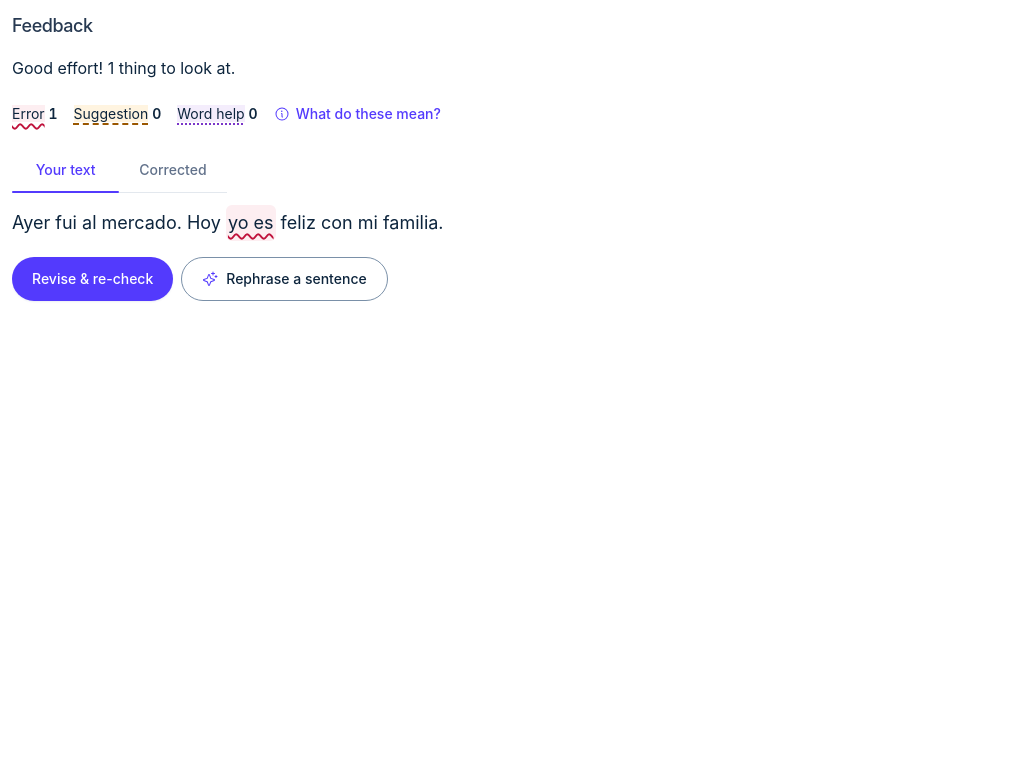
Test: RevisableFeedback rephrase › starts on the first sentence when nothing is selected
Click the button "Rephrase a sentence" at (284, 279), box [181,257,388,301]
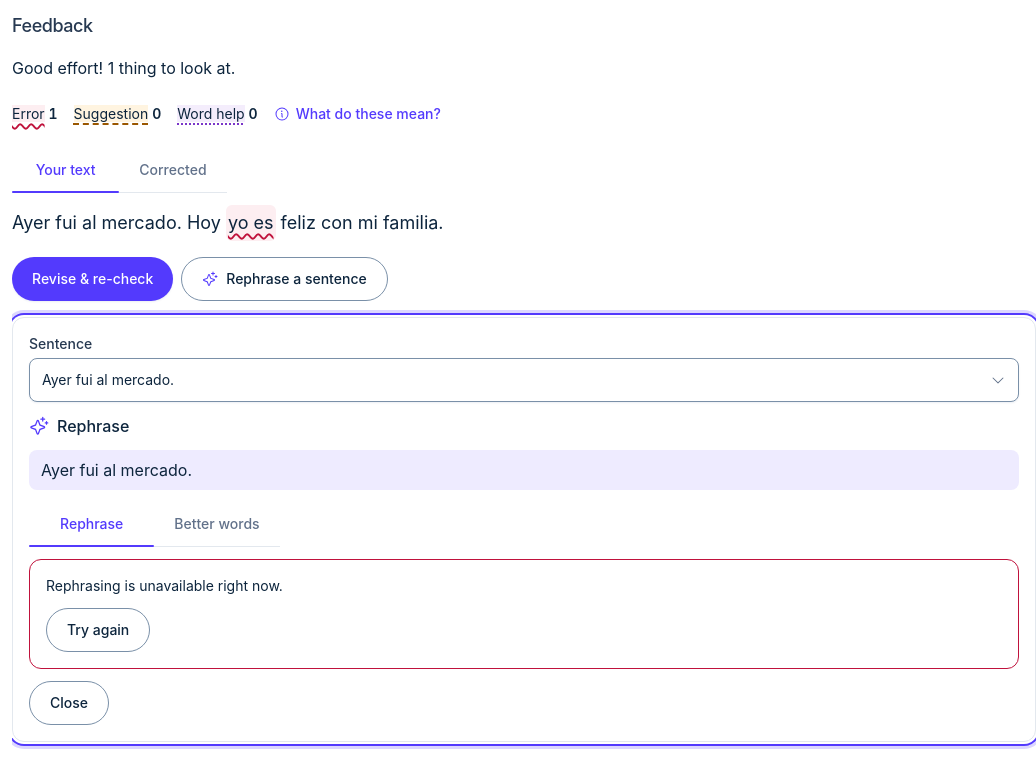
Expected: the dropdown named "Sentence" reads "Ayer fui al mercado.", [29,358,1019,402]
